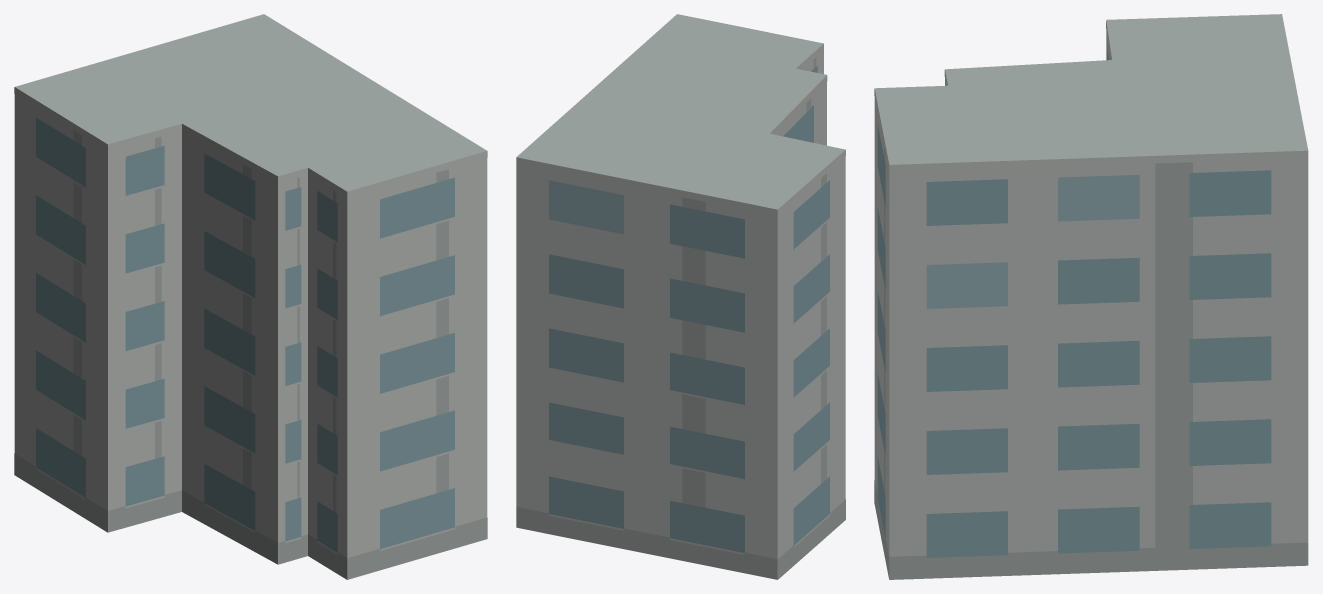
File: survey-upis-33028883.glb
3 renders of one model, left to right at view 1: azimuth 30°, elevation 25°; view 2: azimuth 150°, elevation 25°; view 3: azimuth 270°, elevation 25°, orthographic. The views are drawn at different scales.
Visible parts, largest first — view 1: survey-upis-33028883.tmp; view 2: survey-upis-33028883.tmp; view 3: survey-upis-33028883.tmp.
Boxes of the visible parts, box(x1,y1,x2,y2) form: survey-upis-33028883.tmp: box(14, 14, 487, 579); survey-upis-33028883.tmp: box(516, 14, 845, 579); survey-upis-33028883.tmp: box(874, 14, 1308, 579).
Size of the model in its own units: 10.3 by 13.2 by 12.51.
